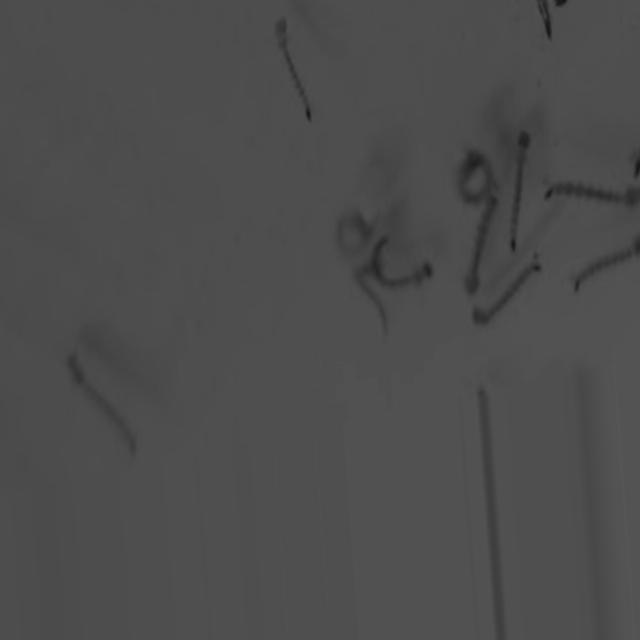larvas: (35, 335, 166, 473), (245, 14, 330, 136), (455, 244, 564, 331), (563, 225, 640, 333), (432, 126, 511, 218), (543, 154, 640, 214), (504, 104, 540, 262), (369, 237, 446, 310), (444, 195, 497, 301), (348, 265, 399, 349), (326, 216, 395, 276), (533, 0, 579, 44)
